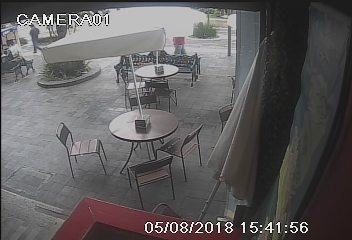libre: (62, 101, 208, 196), (110, 57, 191, 111)
